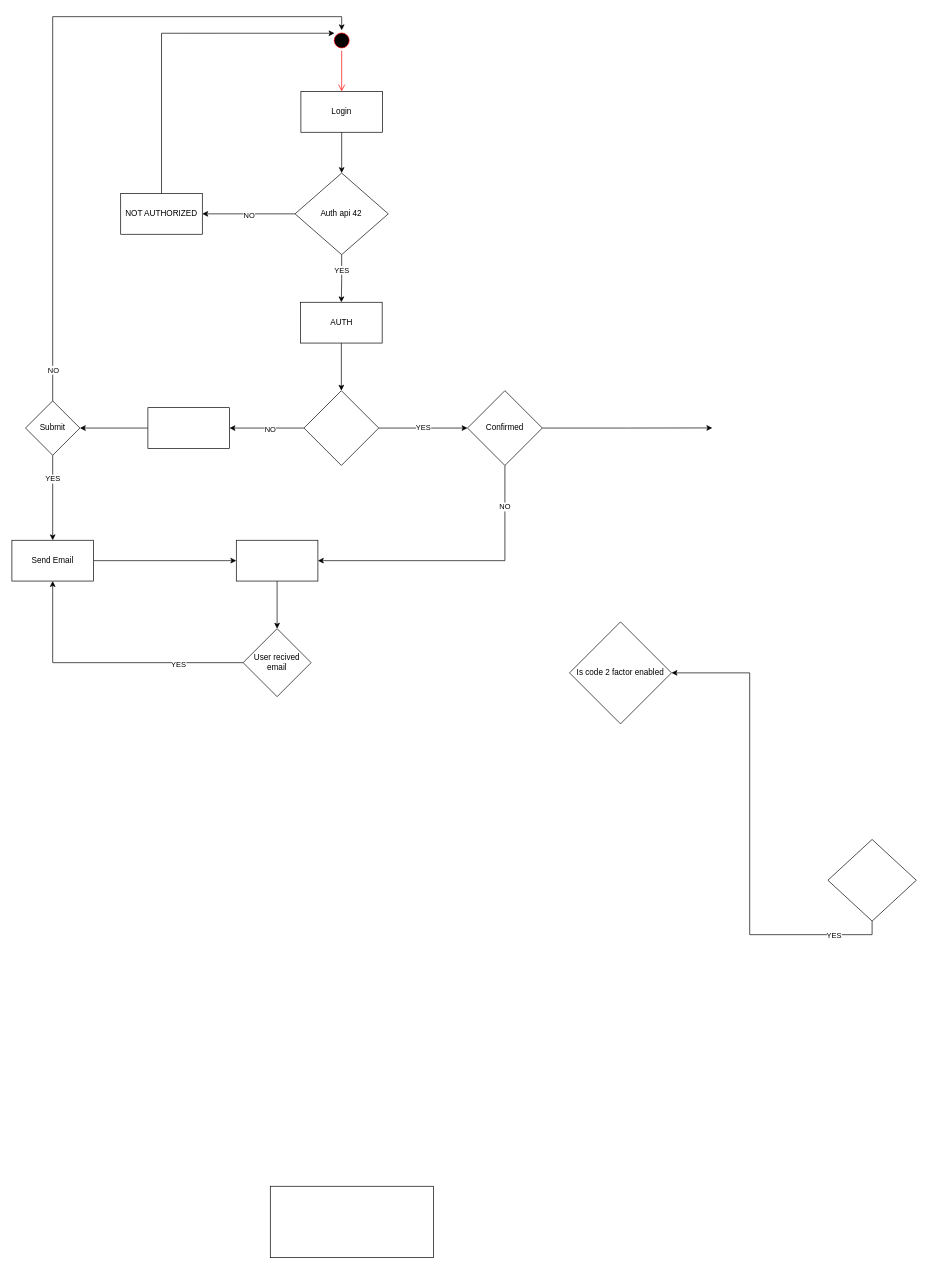
Some shapes in this 928 by 1270 pixel diagram are drawn without their labels. The centre of each missing label's shape, as x and y in pixels:
Account confirmed: [871,880]
Confirmation screen: [277,560]
HOME: [352,1222]
Registration: [188,427]
Registred: [341,427]
